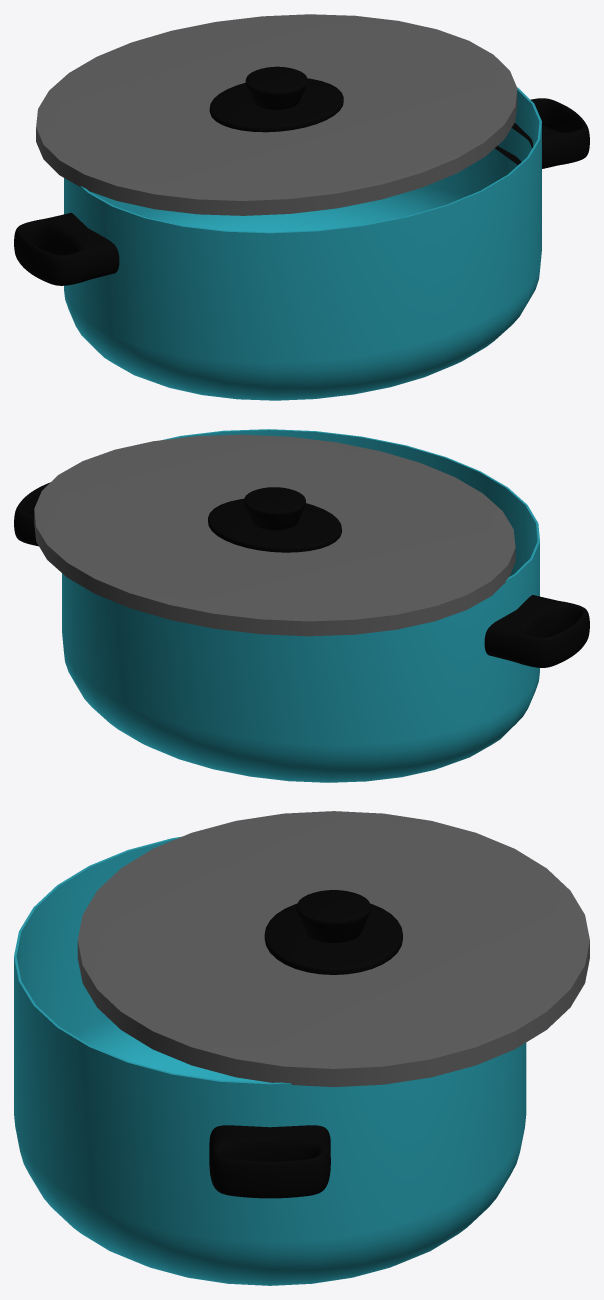
The model's file is pot.fbx.
3 views of the same model, one above another, from view 1: azimuth 30°, elevation 25°; view 2: azimuth 150°, elevation 25°; view 3: azimuth 270°, elevation 25° (orthographic). The views are drawn at different scales.
Parts seen in each view (by area): view 1: Cylinder.014, Cylinder.002, Cube.104, Cube.103; view 2: Cylinder.002, Cylinder.014, Cube.104, Cube.103; view 3: Cylinder.002, Cylinder.014, Cube.103.
Boxes of the visible parts, x1=… form: Cylinder.014: x1=64, y1=87, x2=541, y2=400; Cylinder.002: x1=36, y1=14, x2=517, y2=215; Cube.104: x1=14, y1=213, x2=119, y2=285; Cube.103: x1=495, y1=98, x2=589, y2=168; Cylinder.002: x1=34, y1=434, x2=515, y2=636; Cylinder.014: x1=62, y1=429, x2=539, y2=782; Cube.104: x1=484, y1=595, x2=589, y2=667; Cube.103: x1=14, y1=482, x2=50, y2=546; Cylinder.002: x1=77, y1=811, x2=589, y2=1086; Cylinder.014: x1=14, y1=836, x2=526, y2=1285; Cube.103: x1=209, y1=1125, x2=330, y2=1198.
Size of the model in its own units: 302 by 122 by 225.
